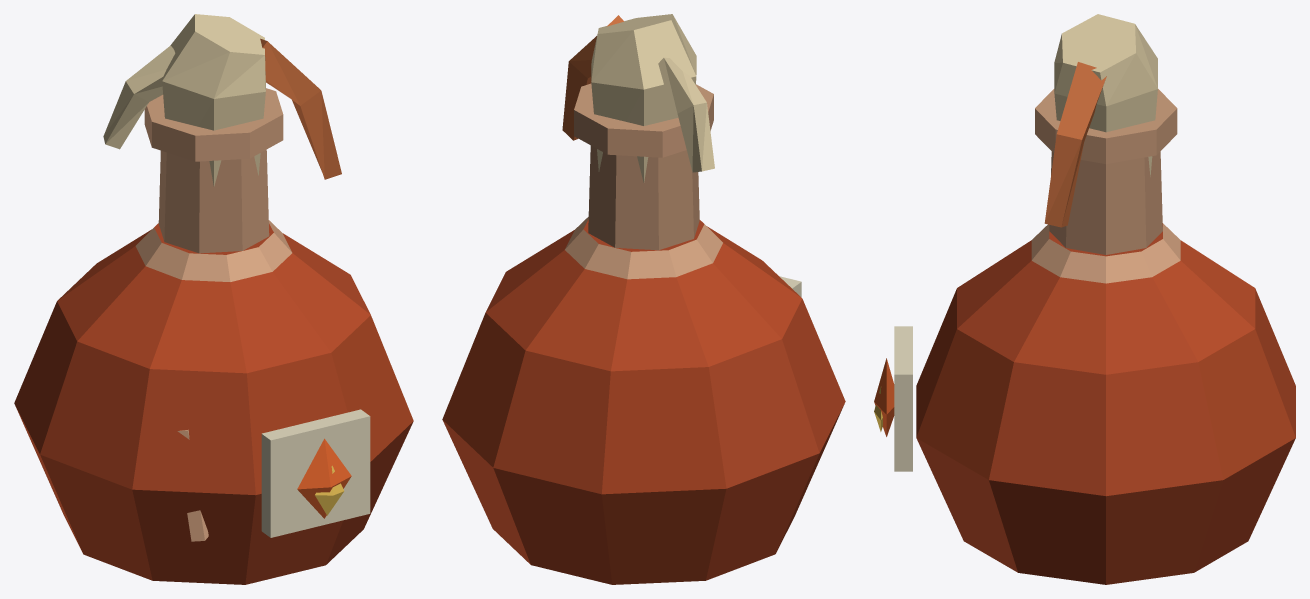
Rendered from item_flask_fire.glb.
The picture shows the model from 3 angles, left to right: view 1: azimuth 30°, elevation 25°; view 2: azimuth 150°, elevation 25°; view 3: azimuth 270°, elevation 25°; orthographic projection.
Parts seen in each view (by area): view 1: item_flask_fire; view 2: item_flask_fire; view 3: item_flask_fire.
Boxes of the visible parts, x1=… form: item_flask_fire: x1=14, y1=14, x2=413, y2=584; item_flask_fire: x1=442, y1=14, x2=845, y2=584; item_flask_fire: x1=874, y1=14, x2=1295, y2=584.
Bounding box in the file's own units: 0.28 × 0.4094 × 0.296.
